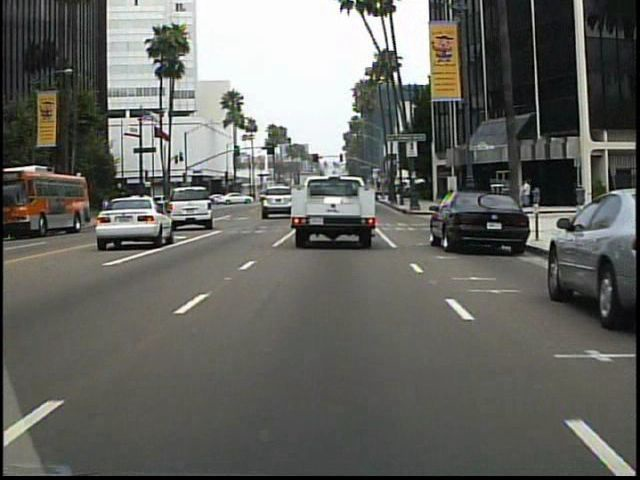person: (521, 177, 533, 194)
